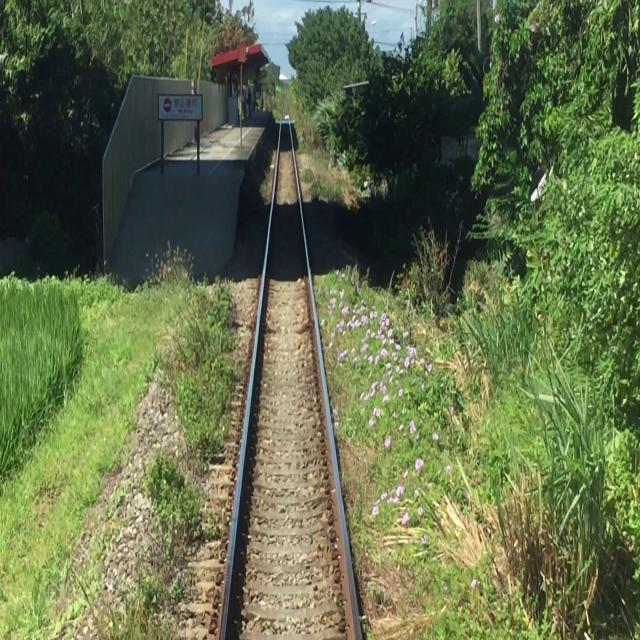rail: (173, 114, 386, 640)
